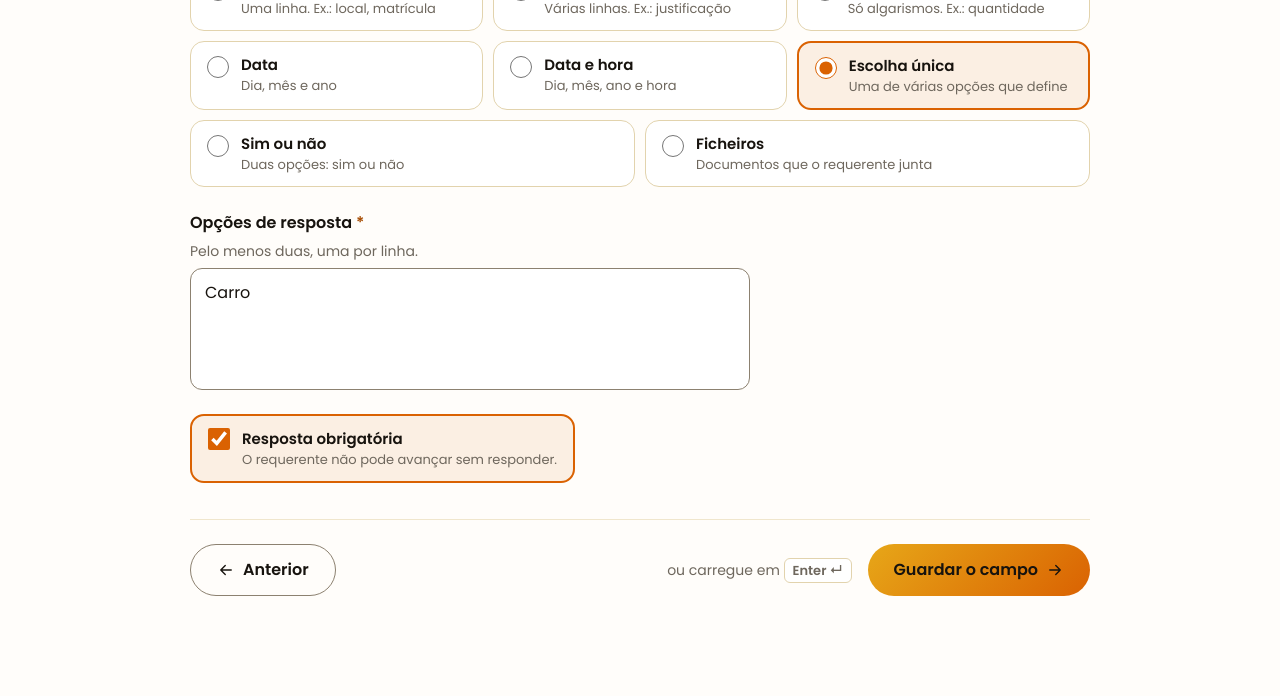
Test case: the request form › does not save a question with no label or a single choice with one option, and says why
(page scrolled)
What coordinates should you click on to do the following:
click the button "Guardar o campo"
I would click on:
 (979, 570)
Its box is [868,544,1090,596].
(page scrolled)
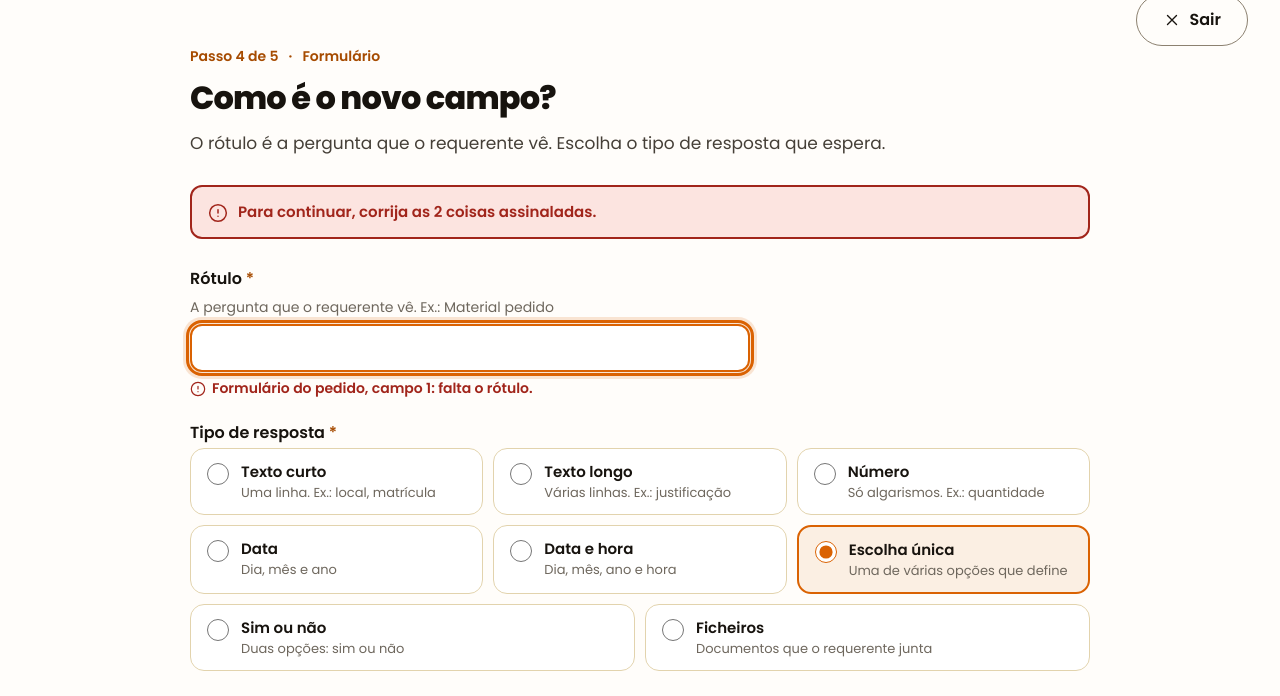
Expected: the heading reads "Como é o novo campo?", [190,75,556,120]
Expected: the message reads "Para continuar, corrija as 2 coisas assinaladas.", [238,201,596,222]
